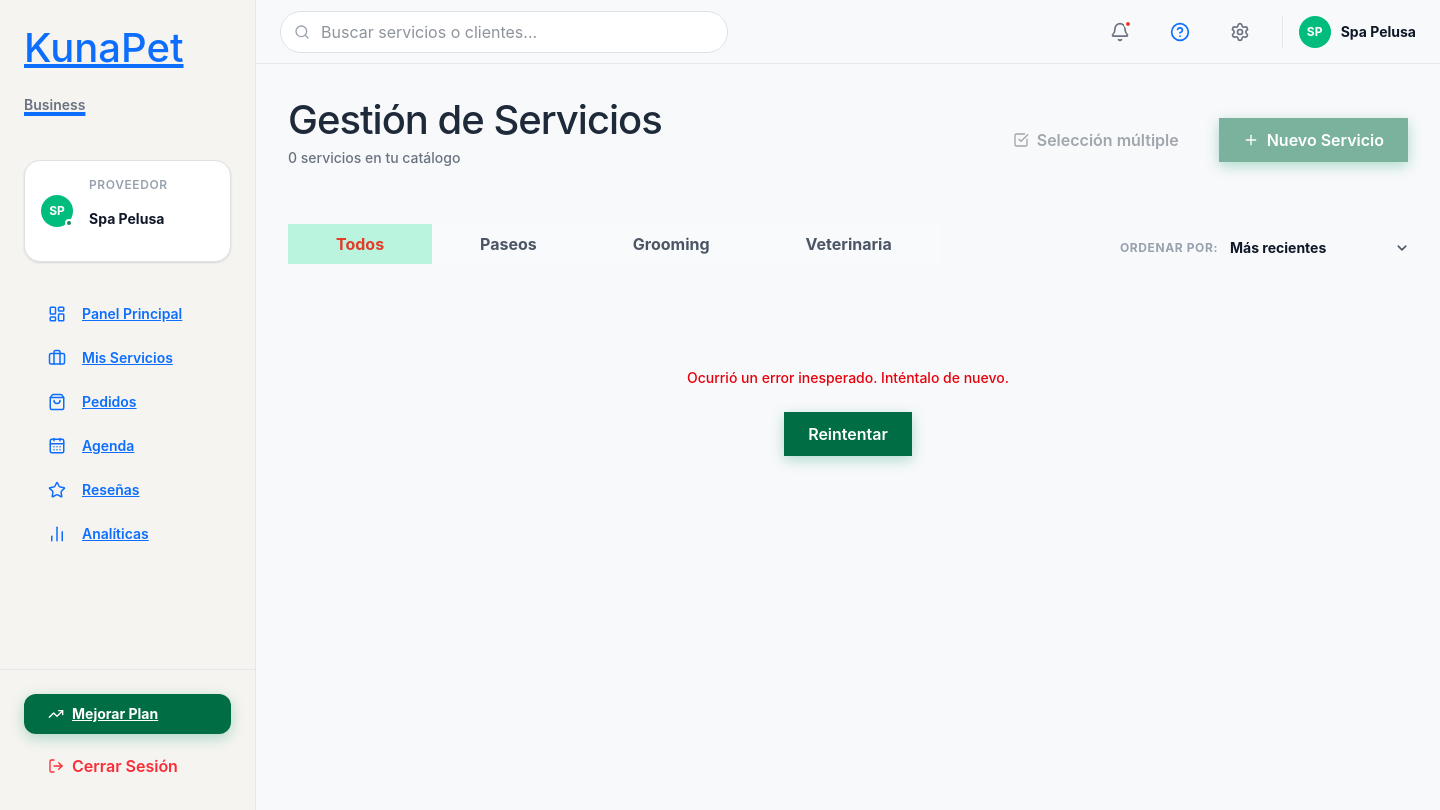
Test: Gestión de servicios del proveedor › estado vacío y error con "Reintentar"
Click the button "Reintentar" at (848, 434), box [784,412,912,456]
(page scrolled)
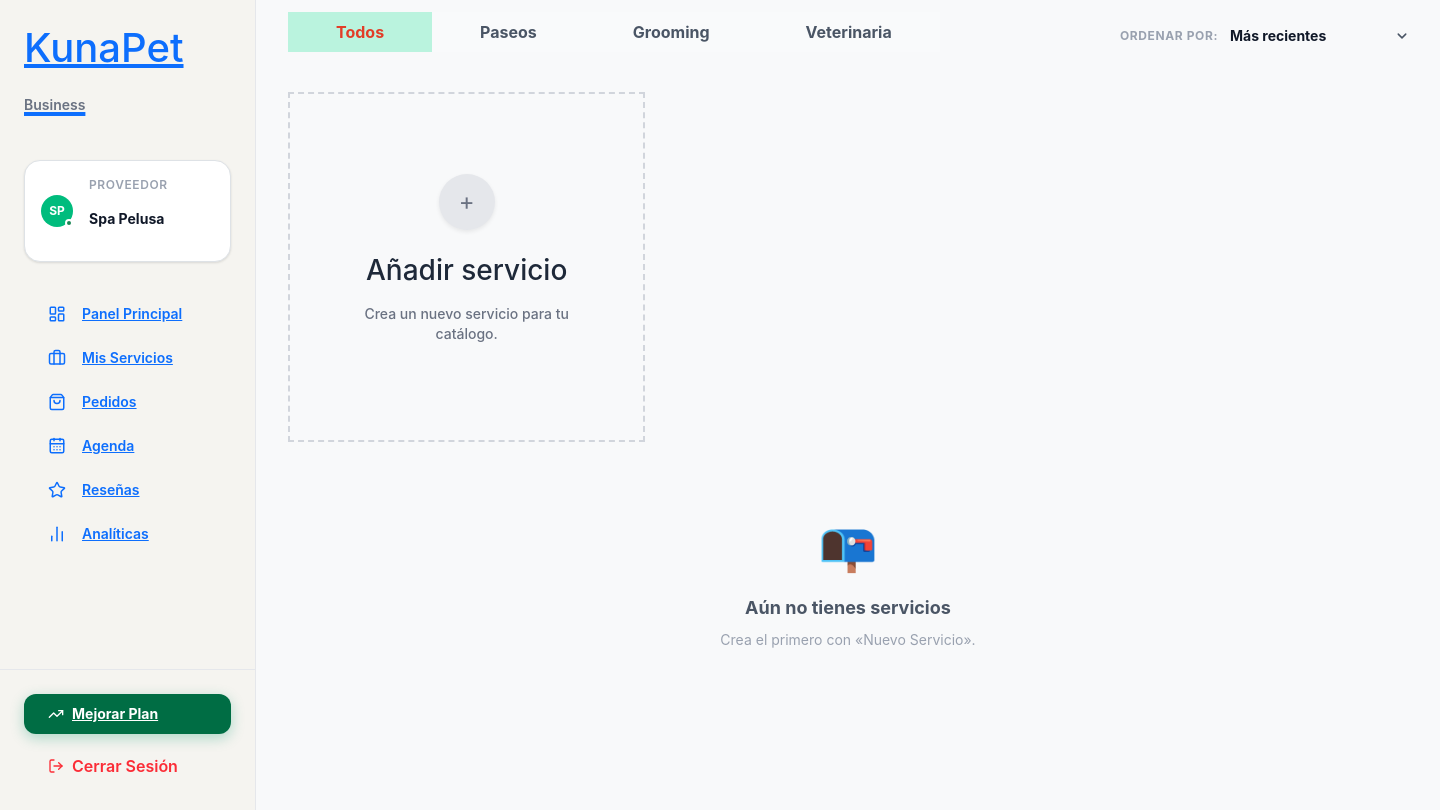
Result: the text "Aún no tienes servicios" is shown at [745,597,951,618]
